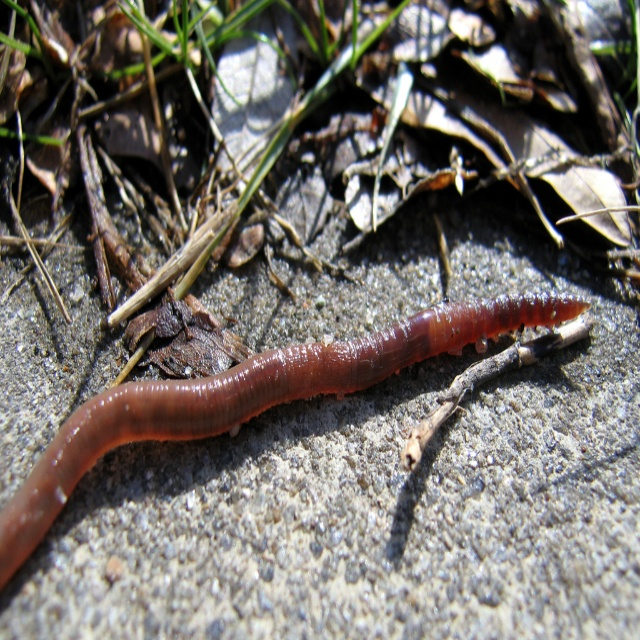Worm: (0, 290, 591, 594)
